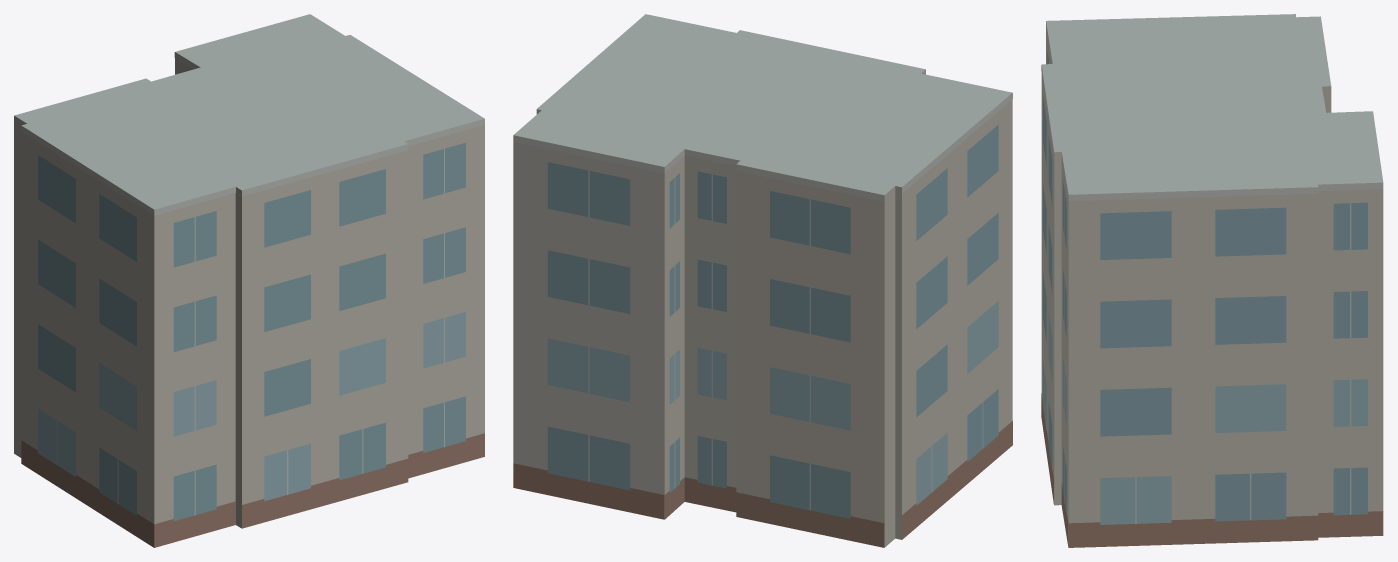
File: survey-upis-32857243.glb
The picture shows the model from 3 angles, left to right: view 1: azimuth 30°, elevation 25°; view 2: azimuth 150°, elevation 25°; view 3: azimuth 270°, elevation 25°; orthographic projection. The views are drawn at different scales.
Visible parts, largest first — view 1: survey-upis-32857243.tmp; view 2: survey-upis-32857243.tmp; view 3: survey-upis-32857243.tmp.
Part boxes in pixels (<box>): survey-upis-32857243.tmp: <box>14,14,484,547</box>; survey-upis-32857243.tmp: <box>513,14,1012,547</box>; survey-upis-32857243.tmp: <box>1041,14,1383,547</box>.
Size of the model in its own units: 14.78 by 13.46 by 11.82.
